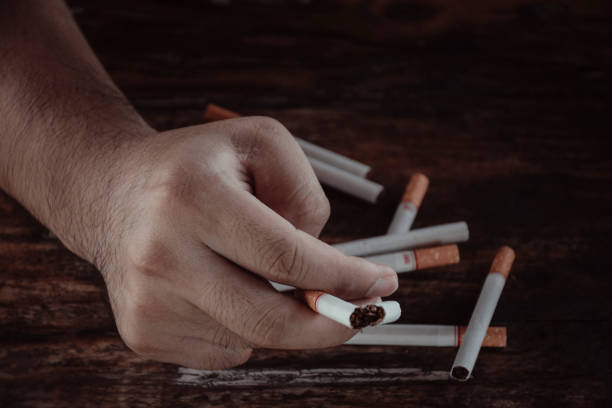cigarette: (201, 101, 372, 180), (448, 245, 514, 383), (331, 220, 470, 258), (342, 323, 510, 347), (307, 155, 385, 205), (293, 287, 370, 332), (388, 171, 430, 236), (364, 244, 460, 271), (360, 299, 403, 326)
